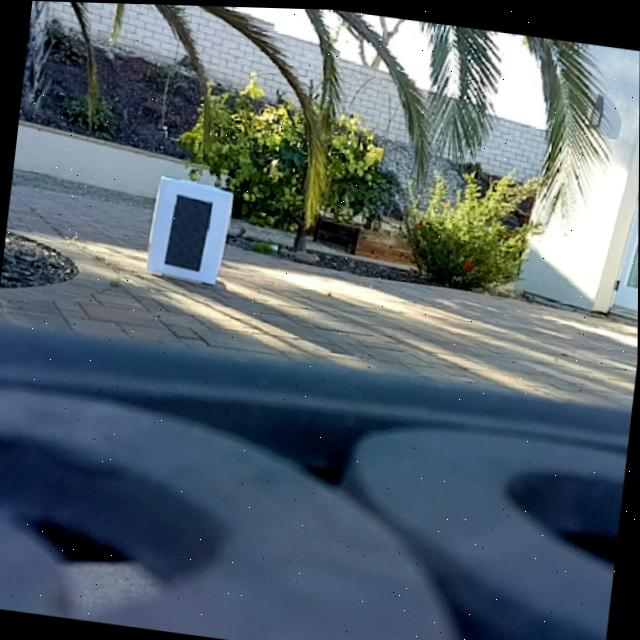led: (163, 189, 215, 273)
